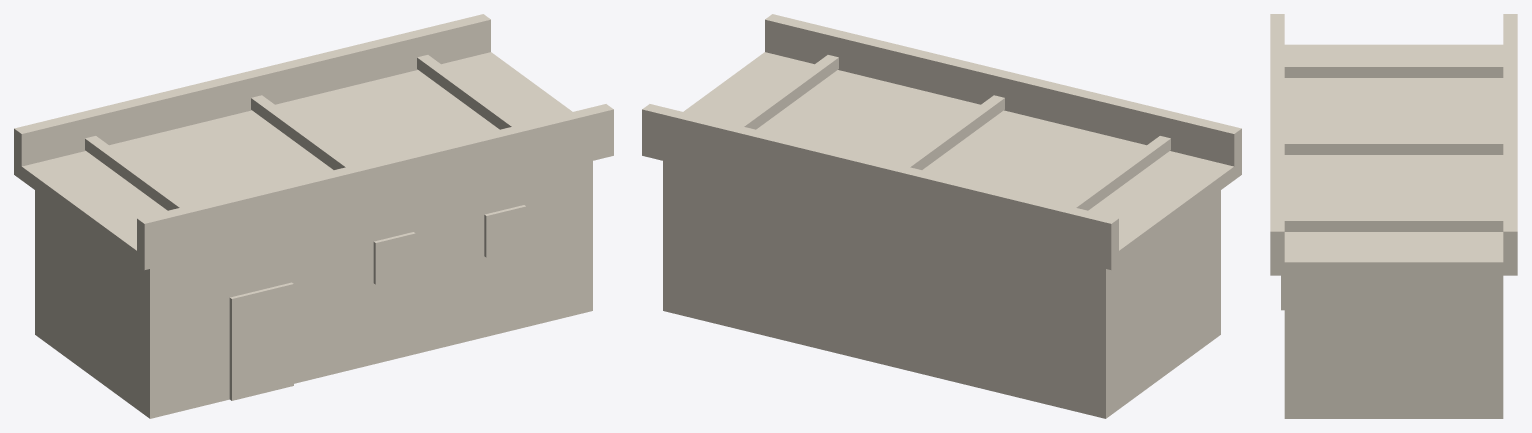
File: barracks.gltf
3 renders of one model, left to right at view 1: azimuth 30°, elevation 25°; view 2: azimuth 150°, elevation 25°; view 3: azimuth 270°, elevation 25°, orthographic. The views are drawn at different scales.
Parts seen in each view (by area): view 1: barracks_hall, barracks_roof, barracks_parapet_s, barracks_parapet_n, barracks_door, barracks_beam_2, barracks_beam_0, barracks_beam_1, barracks_win_b, barracks_win_a; view 2: barracks_hall, barracks_roof, barracks_parapet_n, barracks_parapet_s, barracks_beam_2, barracks_beam_0, barracks_beam_1; view 3: barracks_roof, barracks_hall, barracks_parapet_n, barracks_parapet_s, barracks_beam_0, barracks_beam_1, barracks_beam_2.
Boxes of the visible parts, x1,y1,x2,y2 form: barracks_hall: (35,161,592,418); barracks_roof: (14,52,613,270); barracks_parapet_s: (137,104,613,256); barracks_parapet_n: (14,14,490,166); barracks_door: (229,282,293,400); barracks_beam_2: (417,55,550,157); barracks_beam_0: (85,136,218,239); barracks_beam_1: (251,95,379,197); barracks_win_b: (484,205,526,257); barracks_win_a: (373,232,415,284); barracks_hall: (663,161,1220,418); barracks_roof: (642,52,1241,270); barracks_parapet_n: (642,104,1118,256); barracks_parapet_s: (765,14,1241,166); barracks_beam_2: (705,55,838,158); barracks_beam_0: (1037,136,1170,239); barracks_beam_1: (871,95,1004,198); barracks_roof: (1270,44,1517,275); barracks_hall: (1284,275,1503,418); barracks_parapet_n: (1503,14,1517,262); barracks_parapet_s: (1270,14,1284,262); barracks_beam_0: (1284,62,1503,77); barracks_beam_1: (1284,139,1503,154); barracks_beam_2: (1284,216,1503,231).
Bounding box in the file's own units: 10.6 × 4.4 × 5.1.
